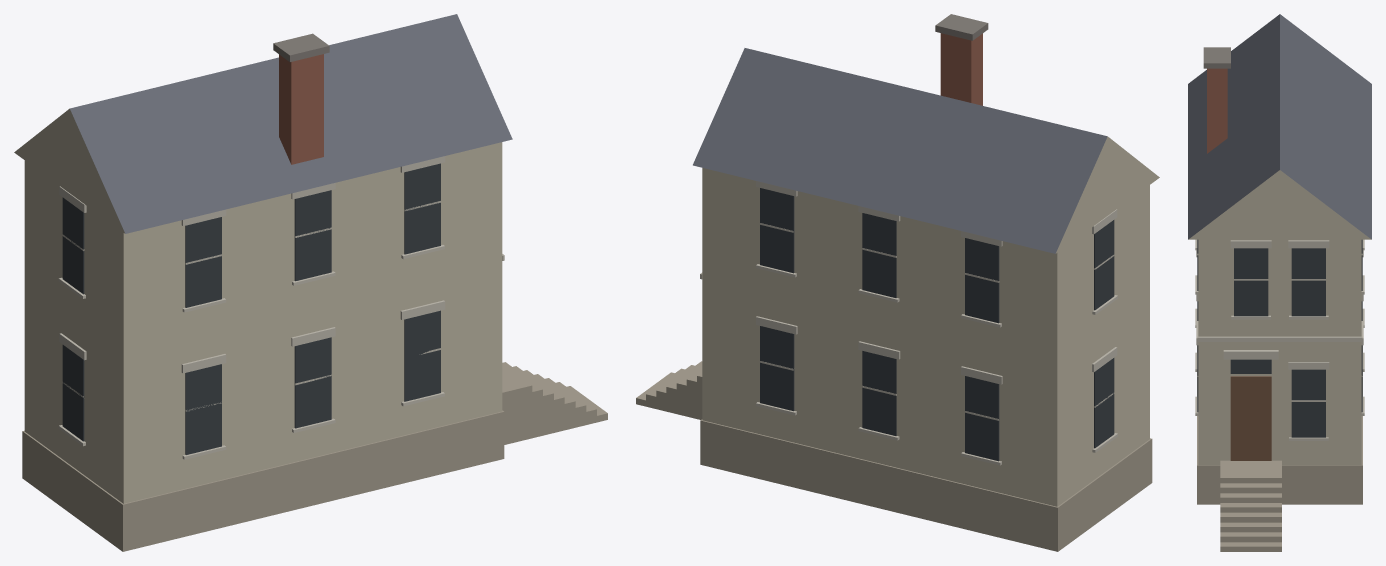
The model's file is house_1609_prairie__draft_1904.glb.
3 renders of one model, left to right at view 1: azimuth 30°, elevation 25°; view 2: azimuth 150°, elevation 25°; view 3: azimuth 270°, elevation 25°, orthographic. The views are drawn at different scales.
Parts seen in each view (by area): view 1: house_1609_prairie__draft_1904; view 2: house_1609_prairie__draft_1904; view 3: house_1609_prairie__draft_1904.
Part boxes in pixels (<box>): house_1609_prairie__draft_1904: <box>14,14,607,551</box>; house_1609_prairie__draft_1904: <box>636,14,1159,551</box>; house_1609_prairie__draft_1904: <box>1188,14,1371,551</box>.
Size of the model in its own units: 13.92 by 11.97 by 5.35.
